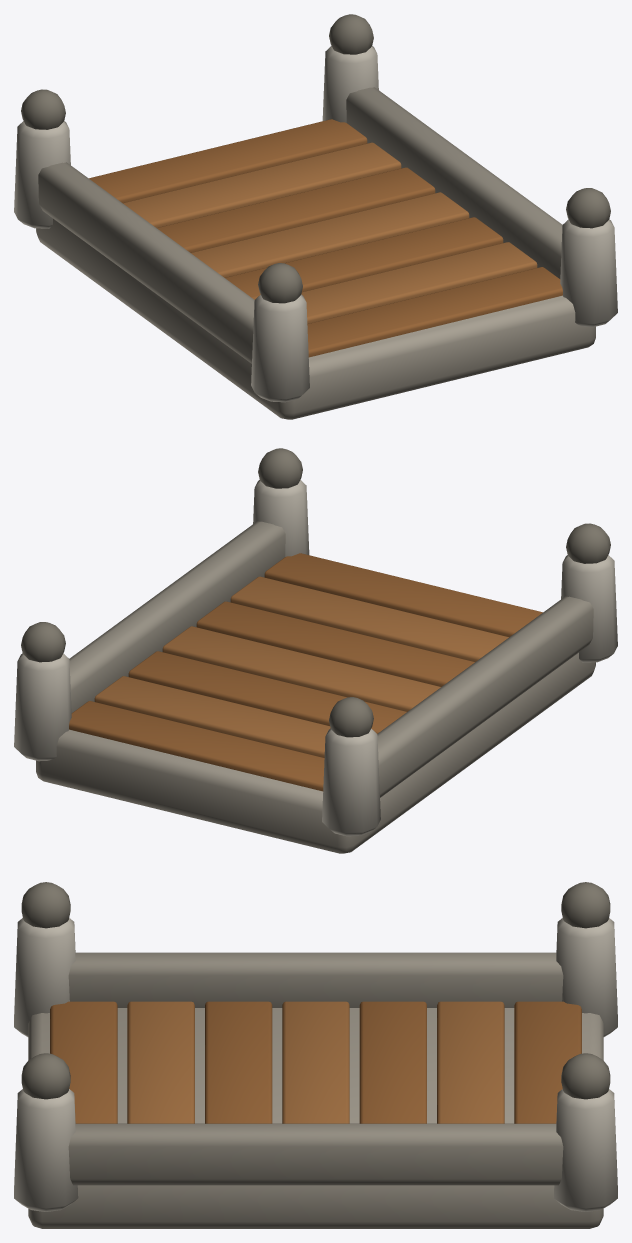
File: ponte.glb
3 views of the same model, one above another, from view 1: azimuth 30°, elevation 25°; view 2: azimuth 150°, elevation 25°; view 3: azimuth 270°, elevation 25° (orthographic). The views are drawn at different scales.
Parts seen in each view (by area): view 1: corpo; view 2: corpo; view 3: corpo.
Part boxes in pixels (x1,y1,x2,y2): corpo: [14, 14, 617, 419]; corpo: [14, 448, 617, 853]; corpo: [14, 882, 617, 1228].
Bounding box in the file's own units: 2.38 × 0.98 × 3.04.
